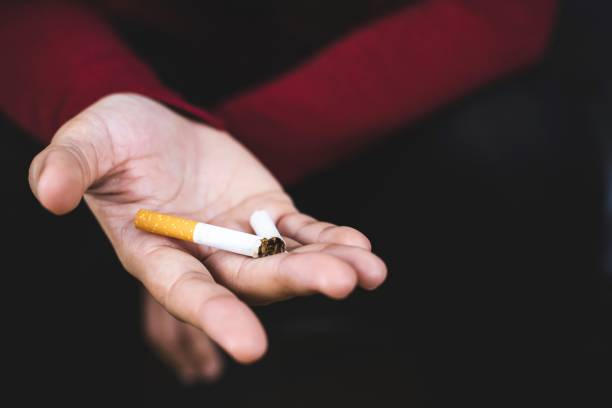cigarette: (132, 206, 270, 259), (247, 209, 288, 255)
